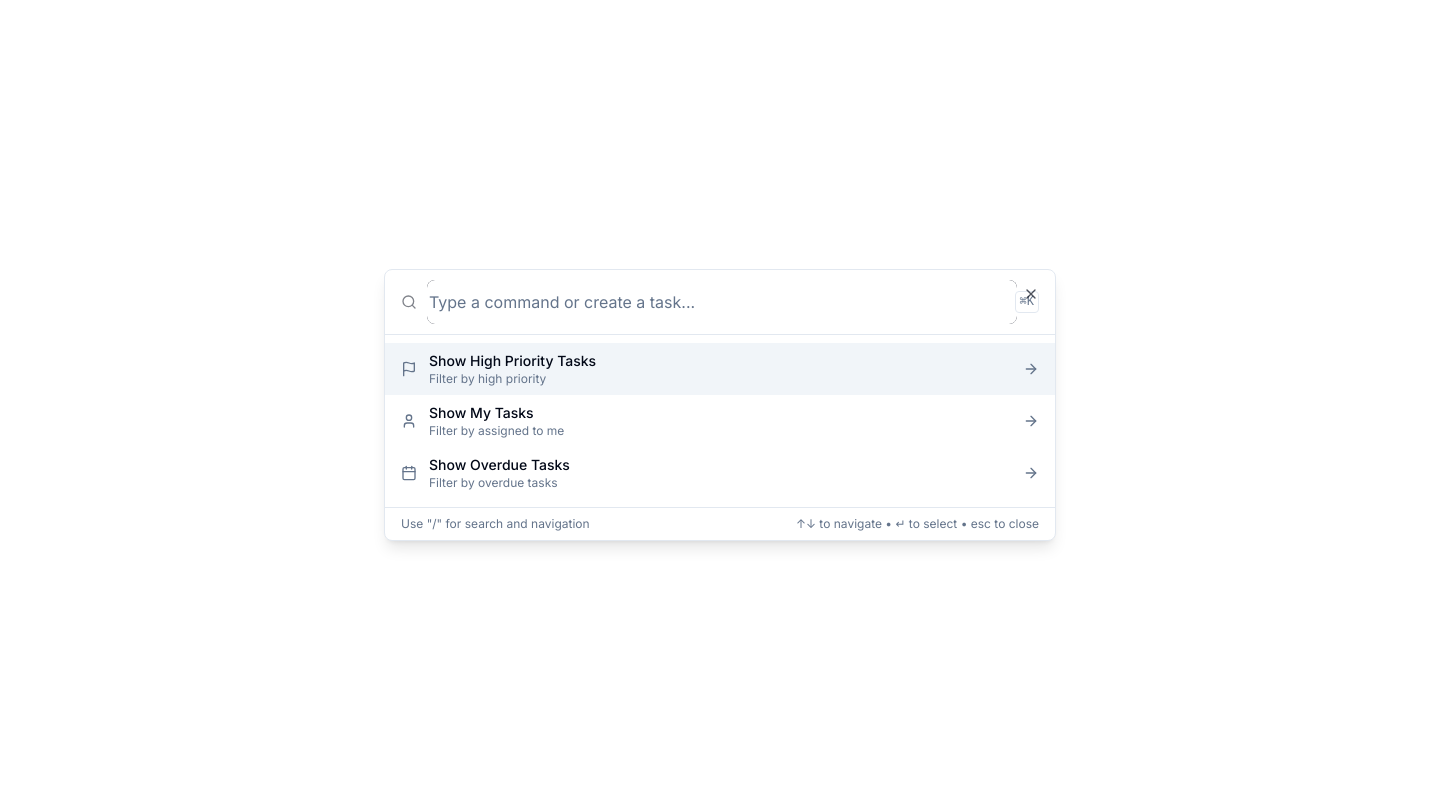
Test case: CommandPalette › should show navigation actions when using "/" prefix
Type "/" into the field with placeholder "Type a command or create a task...".
click(722, 302); type("/")  # box [429, 282, 1015, 322]
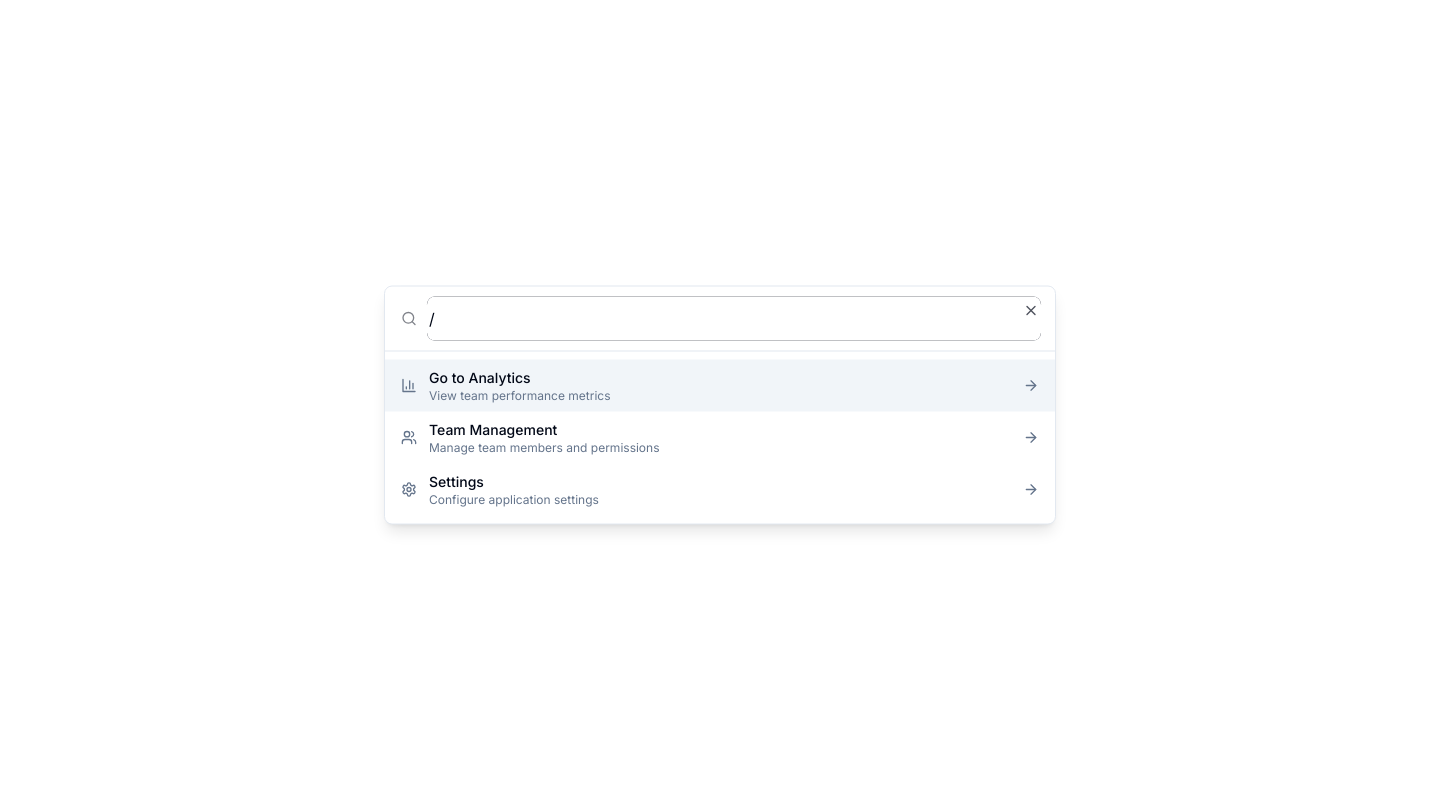
Expected: the text "Go to Analytics" is shown, [429, 368, 531, 386]
Expected: the text "Team Management" is shown, [429, 420, 557, 438]
Expected: the text "Settings" is shown, [429, 472, 484, 490]
